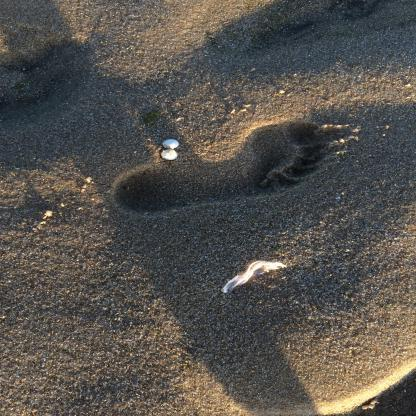plastik: (223, 261, 289, 295)
